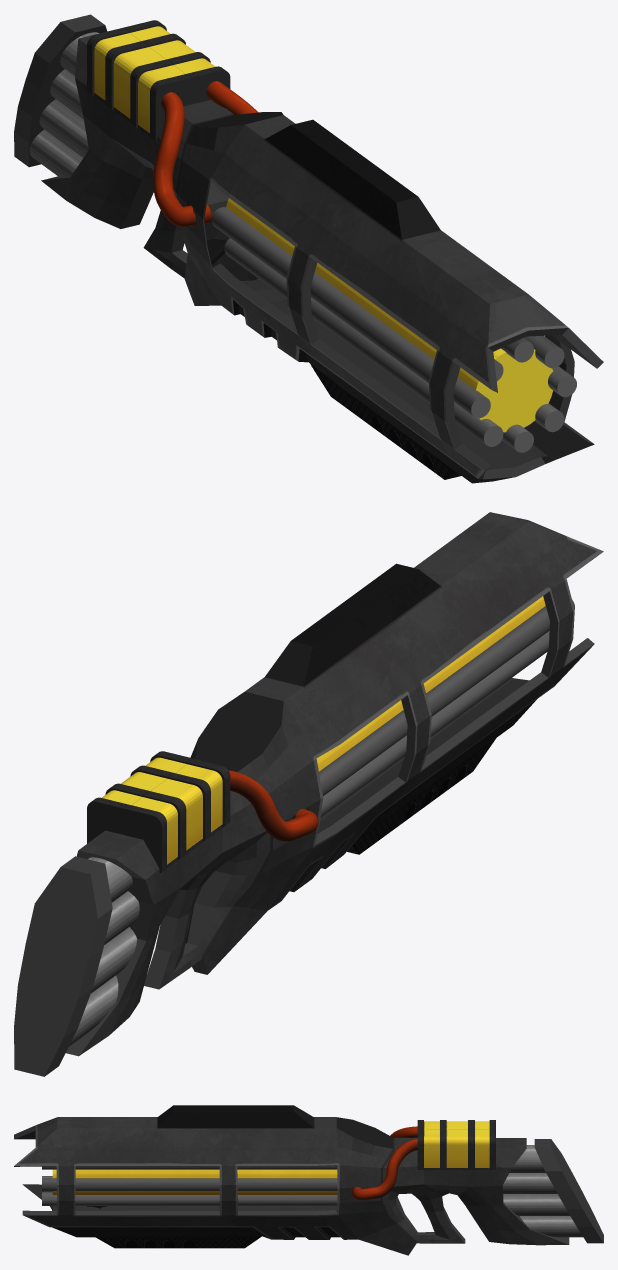
The model's file is PR_Rifle.fbx.
The picture shows the model from 3 angles, top to bottom: view 1: azimuth 30°, elevation 25°; view 2: azimuth 150°, elevation 25°; view 3: azimuth 270°, elevation 25°; orthographic projection. The views are drawn at different scales.
Visible parts, largest first — view 1: Cube.007, Cube.008, Cylinder.023, Cylinder.010, Cylinder.022, BezierCurve, Cylinder.008, Cylinder.009, Cylinder.006, Cylinder.018, Cylinder.021, Cylinder.019 (+1 smaller); view 2: Cube.007, Cube.008, Cylinder.023, Cylinder.022, Cylinder.010, BezierCurve, Cylinder.008, Cylinder.009, Cylinder.006, Cylinder.005; view 3: Cube.007, Cube.008, Cylinder.019, Cylinder.010, Cylinder.020, BezierCurve, Cylinder.008, Cylinder.018, Cylinder.009, Cylinder.006, Cylinder.005.
Part boxes in pixels (left/top/right/bottom): Cube.007: left=14, top=14, right=603, bottom=483; Cube.008: left=87, top=20, right=230, bottom=141; Cylinder.023: left=211, top=207, right=490, bottom=418; Cylinder.010: left=226, top=198, right=553, bottom=432; Cylinder.022: left=224, top=238, right=503, bottom=446; BezierCurve: left=153, top=81, right=258, bottom=227; Cylinder.008: left=39, top=99, right=88, bottom=157; Cylinder.009: left=29, top=129, right=82, bottom=177; Cylinder.006: left=50, top=69, right=83, bottom=119; Cylinder.018: left=524, top=336, right=564, bottom=368; Cylinder.021: left=502, top=424, right=533, bottom=452; Cylinder.019: left=548, top=366, right=576, bottom=397; Cube.007: left=14, top=512, right=603, bottom=1076; Cube.008: left=87, top=751, right=230, bottom=873; Cylinder.023: left=319, top=599, right=574, bottom=796; Cylinder.022: left=320, top=631, right=549, bottom=817; Cylinder.010: left=316, top=596, right=545, bottom=771; BezierCurve: left=228, top=770, right=318, bottom=841; Cylinder.008: left=91, top=927, right=137, bottom=993; Cylinder.009: left=69, top=975, right=118, bottom=1046; Cylinder.006: left=104, top=891, right=139, bottom=944; Cylinder.005: left=87, top=857, right=132, bottom=902; Cube.007: left=14, top=1105, right=603, bottom=1255; Cube.008: left=417, top=1120, right=495, bottom=1169; Cylinder.019: left=42, top=1178, right=337, bottom=1191; Cylinder.010: left=52, top=1169, right=337, bottom=1194; Cylinder.020: left=42, top=1193, right=337, bottom=1205; BezierCurve: left=351, top=1126, right=417, bottom=1200; Cylinder.008: left=503, top=1194, right=569, bottom=1215; Cylinder.018: left=42, top=1165, right=337, bottom=1169; Cylinder.009: left=520, top=1216, right=582, bottom=1237; Cylinder.006: left=503, top=1173, right=557, bottom=1193; Cylinder.005: left=509, top=1145, right=545, bottom=1172.
Bounding box in the file's own units: 84.13 × 141 × 519.
